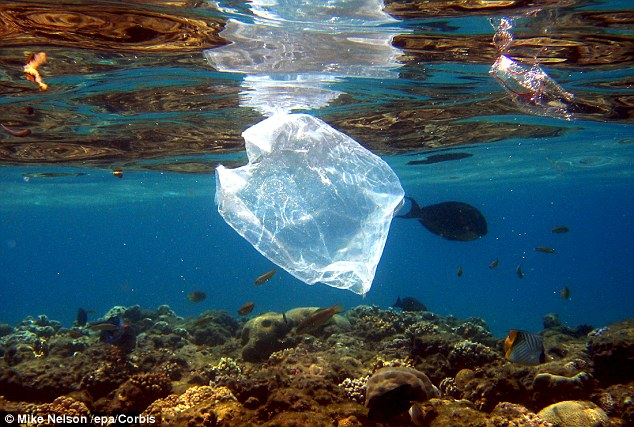litter: (221, 103, 408, 298), (475, 36, 596, 157)
